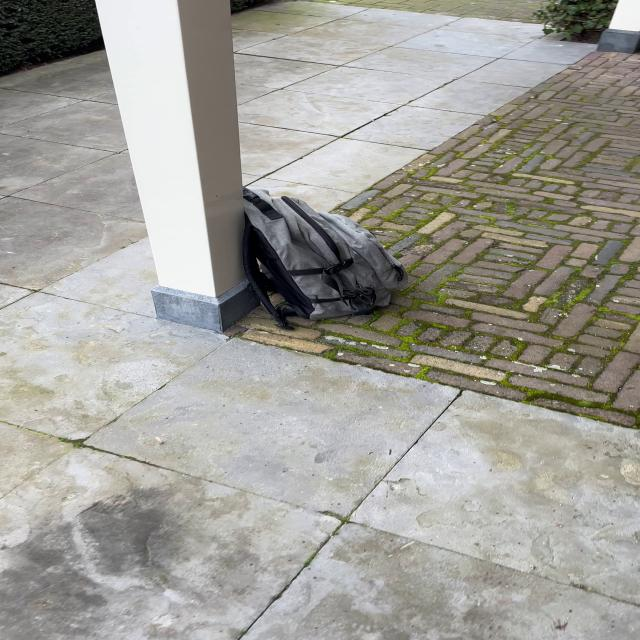backpack: (220, 185, 414, 330)
